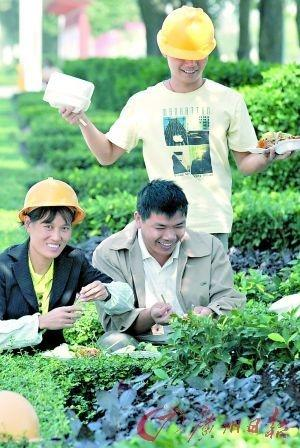Helmet: (22, 179, 86, 255)
NoHelmet: (135, 179, 189, 253)
